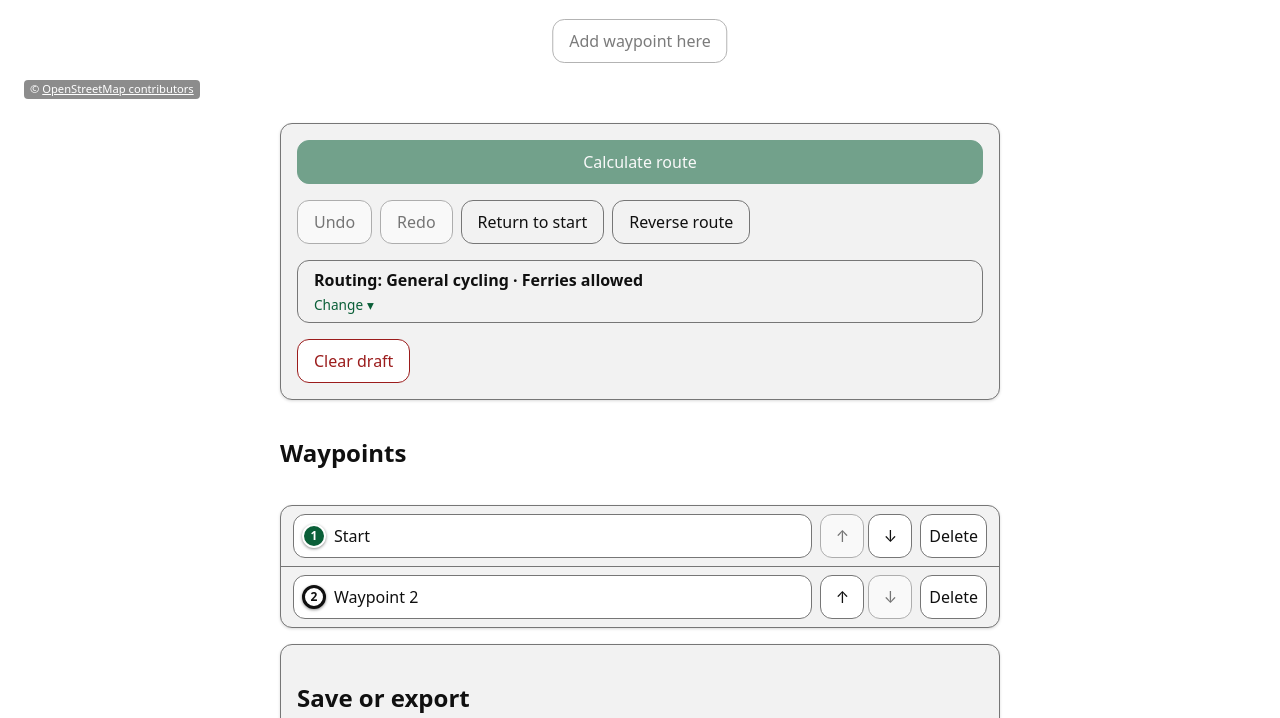
PlanningScreen Clear draft reveal and focus return (backlog item 124) › a failure (backlog item 124, D-01) › a delayed failure while the rider waits does the same, moving up when the row is under the header
This screenshot has width=1280, height=718.
(page scrolled)
Step 1. Click the button "Clear draft" → click(354, 361), box [297,339,410,383]
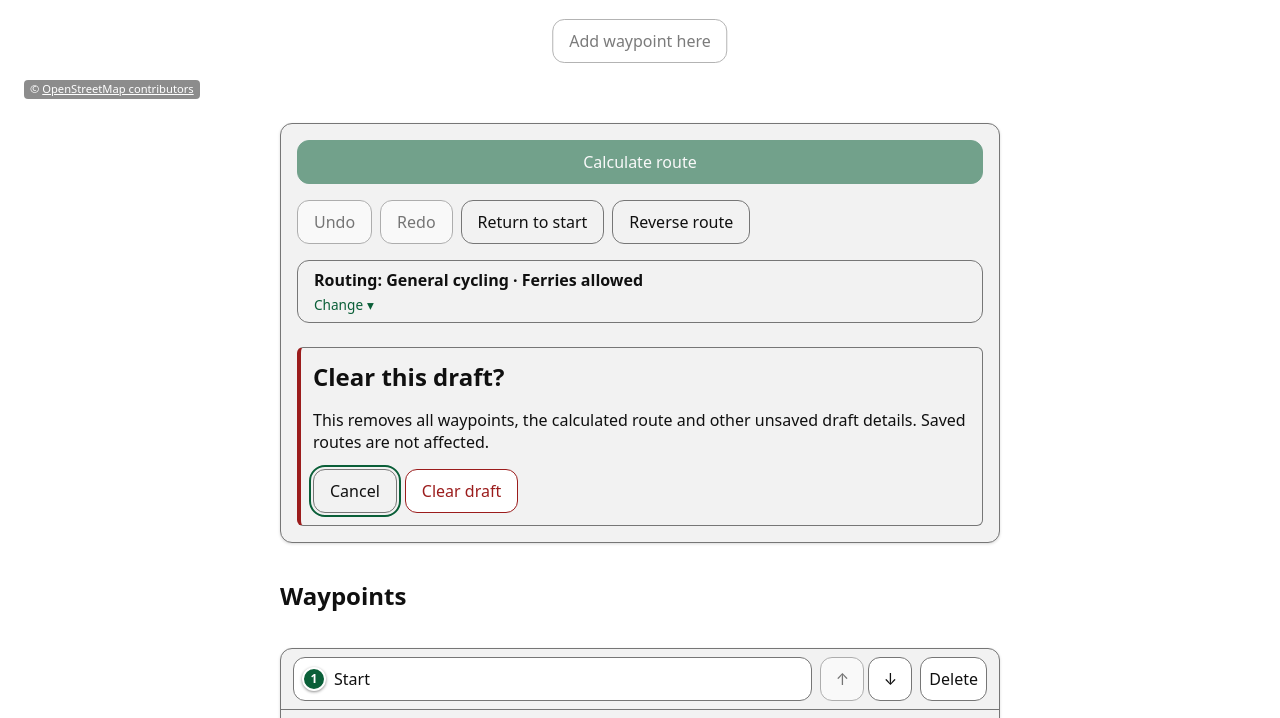
Step 2. Click the button "Clear draft" → click(462, 491), box [405,469,518,513]
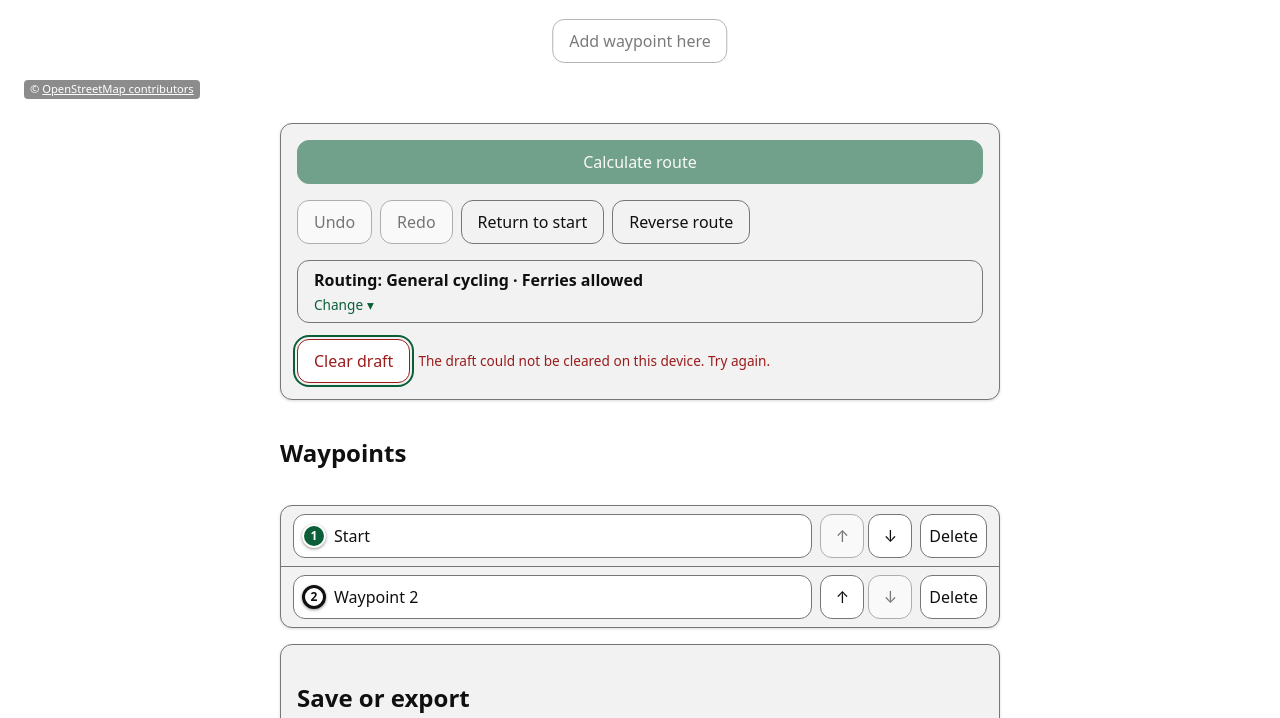
Check: the message reads "The draft could not be cleared on this device. Try again.", box [418,351,770,370]
Check: the dialog is gone
